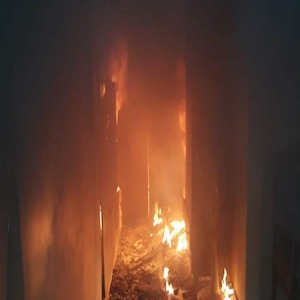fire: (163, 218, 187, 254), (216, 270, 236, 298), (161, 269, 178, 297)
